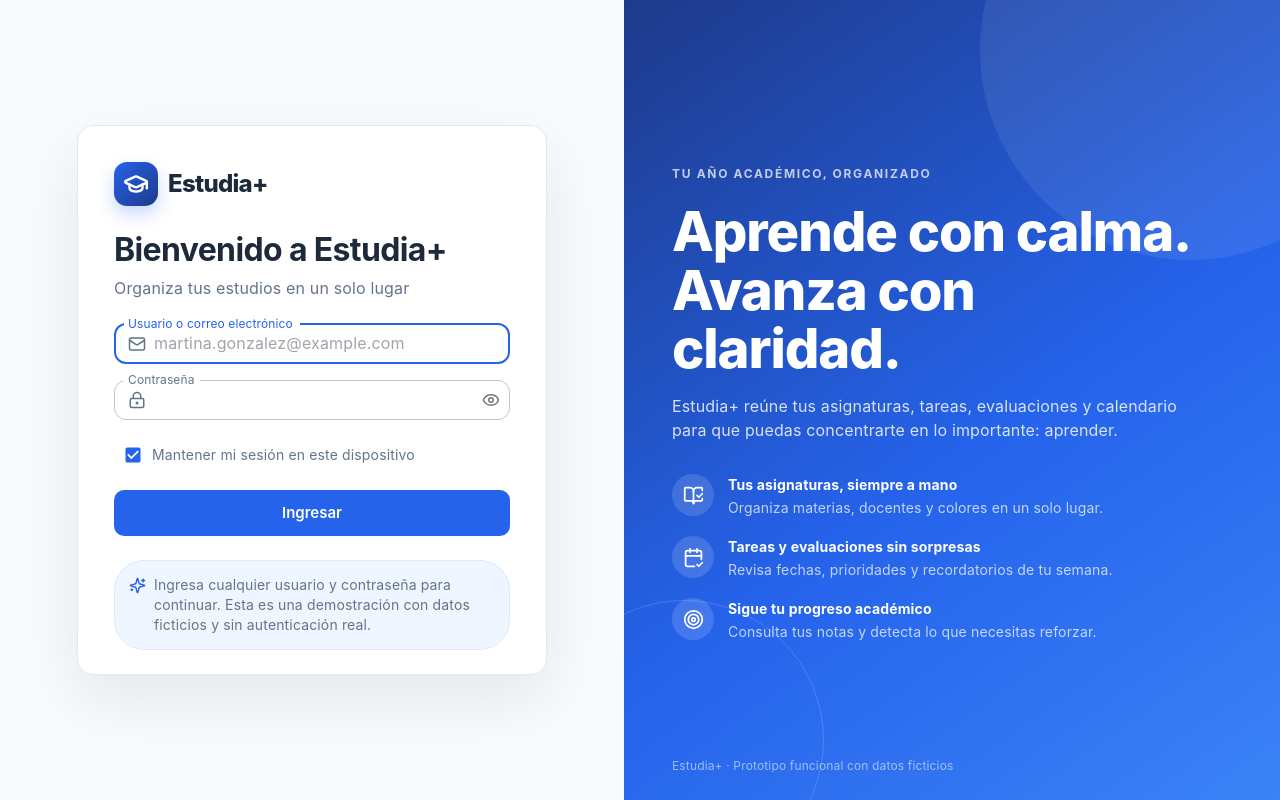
Test: autenticación simulada › valida que usuario y contraseña no estén vacíos
This screenshot has width=1280, height=800.
Click the button "Ingresar". click: point(312, 513)
box: [114,490,510,536]
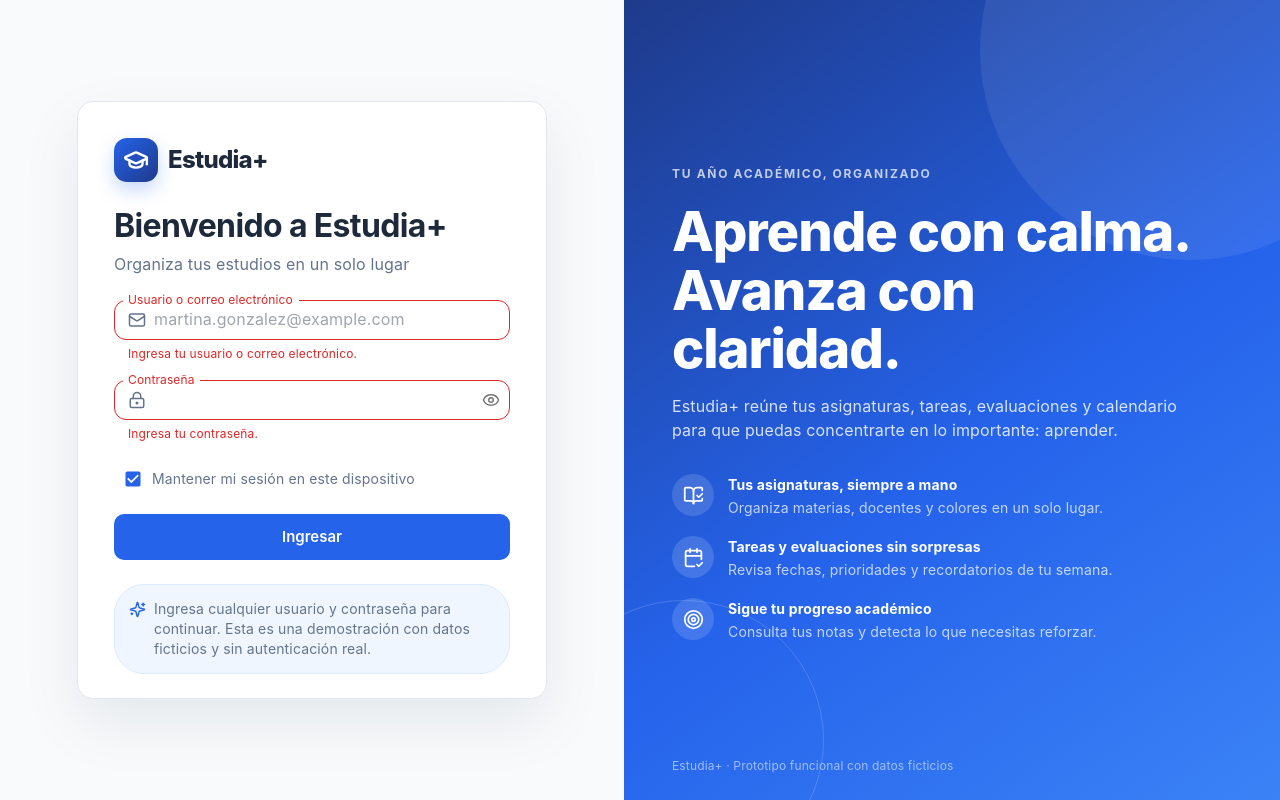
expect the text "Ingresa tu usuario o correo electrónico." is shown: met, box [128,346,357,361]
expect the text "Ingresa tu contraseña." is shown: met, box [128,426,258,441]
